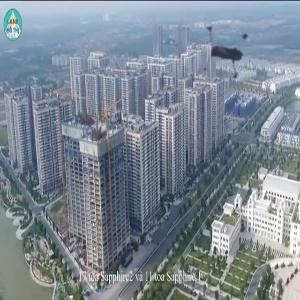drone: (188, 4, 275, 91)
